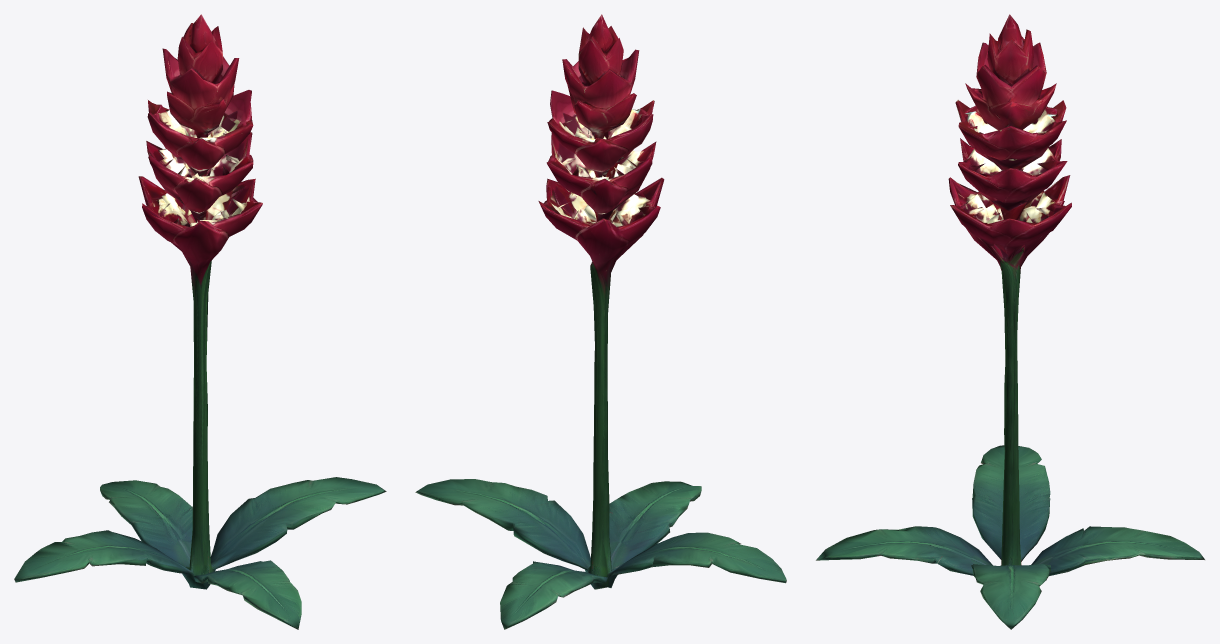
The picture shows the model from 3 angles, left to right: view 1: azimuth 30°, elevation 25°; view 2: azimuth 150°, elevation 25°; view 3: azimuth 270°, elevation 25°; orthographic projection.
Parts seen in each view (by area): view 1: Mesh_0; view 2: Mesh_0; view 3: Mesh_0.
Part boxes in pixels (<box>): Mesh_0: <box>14,14,386,629</box>; Mesh_0: <box>415,14,786,629</box>; Mesh_0: <box>816,14,1204,629</box>.
Size of the model in its own units: 1.31 by 1.92 by 1.18.
Materials: 1 (1 with a texture image).
